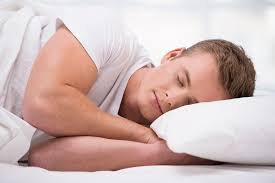sleeping: (1, 12, 256, 172)
